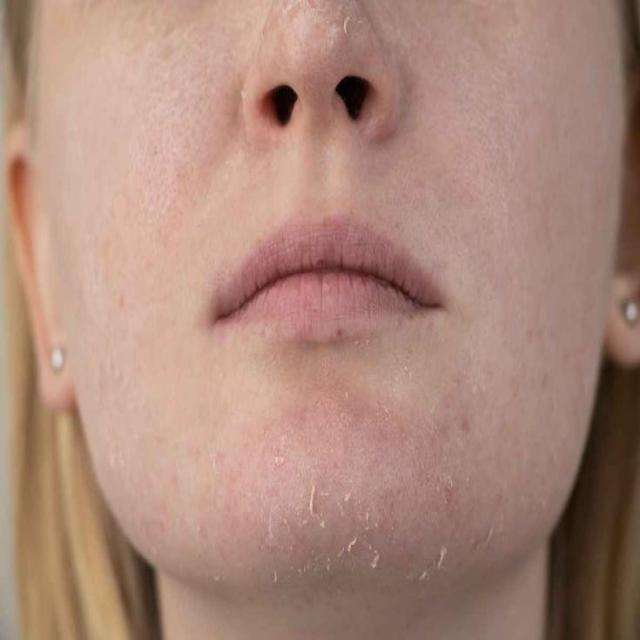Dry-Skin: (60, 49, 174, 266), (290, 379, 414, 565), (248, 8, 384, 162), (143, 364, 224, 549), (494, 73, 565, 254), (452, 364, 524, 539), (445, 36, 488, 292), (550, 353, 590, 462)
